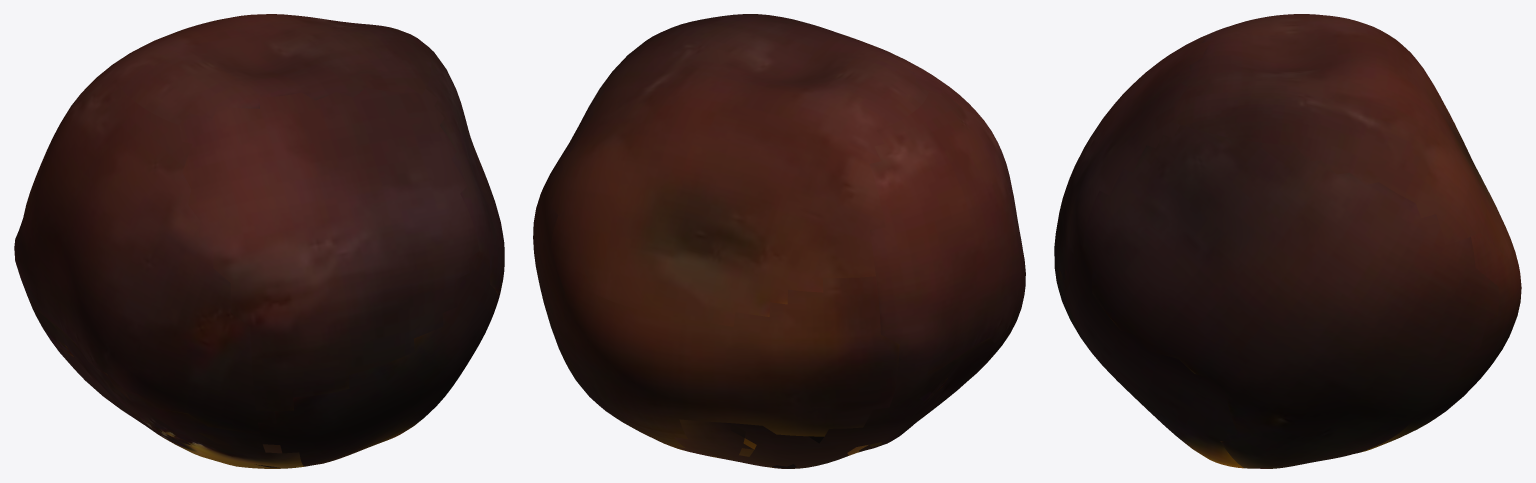
The model's file is fruit_5.glb.
The picture shows the model from 3 angles, left to right: view 1: azimuth 30°, elevation 25°; view 2: azimuth 150°, elevation 25°; view 3: azimuth 270°, elevation 25°; orthographic projection. The views are drawn at different scales.
Visible parts, largest first — view 1: w_fruit_5; view 2: w_fruit_5; view 3: w_fruit_5.
Boxes of the visible parts, x1,y1,x2,y2 form: w_fruit_5: (14, 14, 504, 468); w_fruit_5: (533, 14, 1025, 468); w_fruit_5: (1054, 14, 1521, 468).
Bounding box in the file's own units: 0.0736 × 0.0649 × 0.0738.
Materials: 1 (1 with a texture image).
